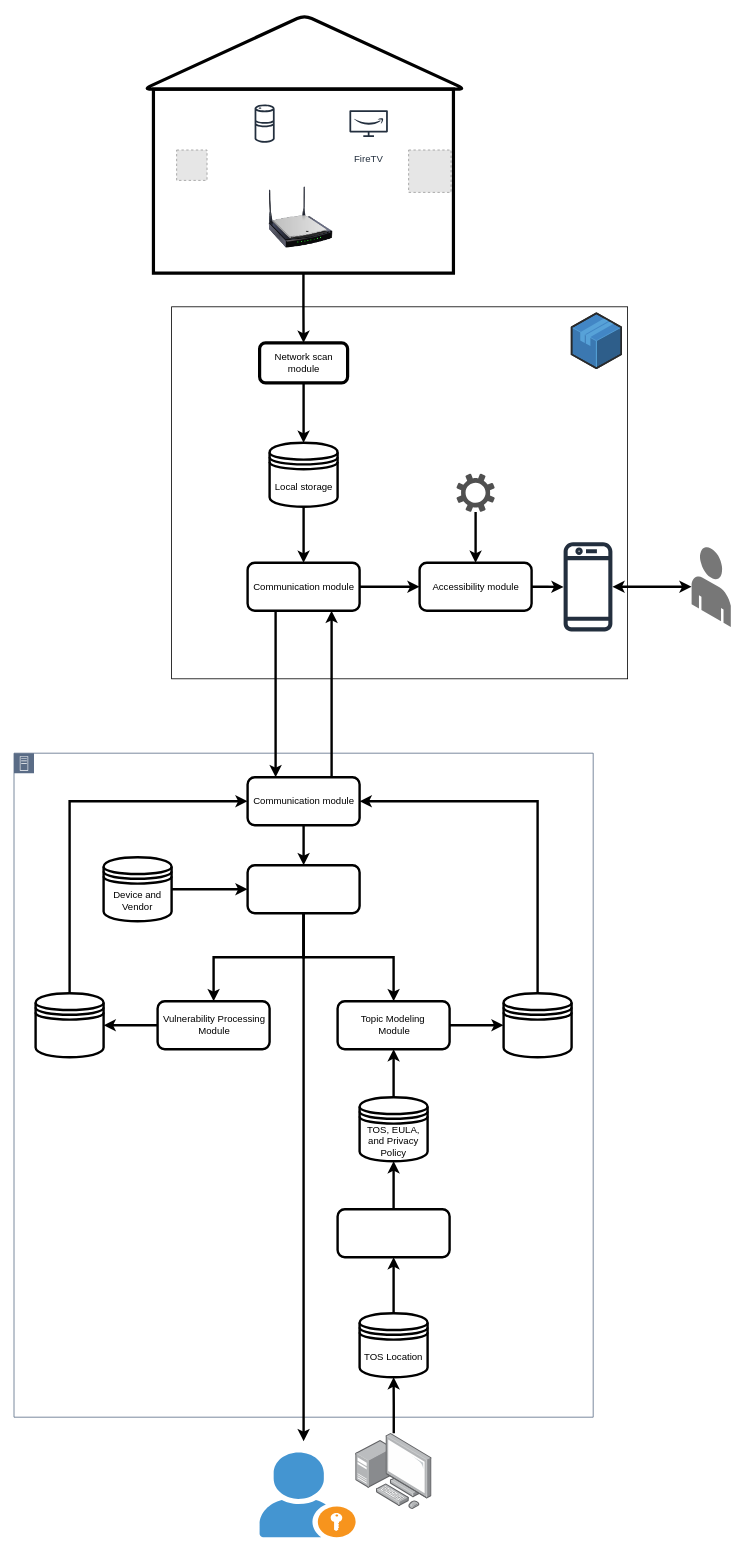
The diagram is 745 pixels wide and 1551 high, and some of its shapes have lost their labels. Grey dashed boxes stand in for pictures. Here are the shapes that lost their labels. From the top down, the box of each, then its label:
(240, 99, 289, 148): Echo
(246, 864, 360, 914): Device and Vendor Lookup Module
(34, 992, 104, 1058): Vulnerabilites
(502, 992, 572, 1058): Topics and Scores
(13, 752, 593, 1417): Backend
(336, 1208, 450, 1258): TOS Processing Module
